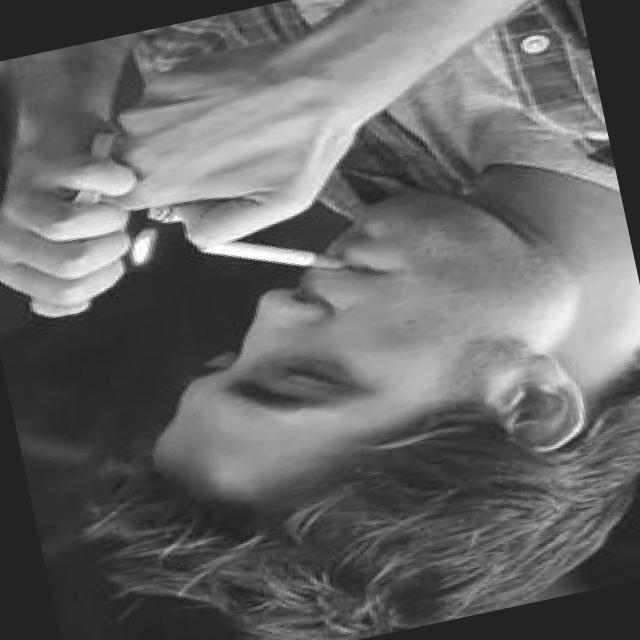cigarette: (178, 204, 353, 310)
